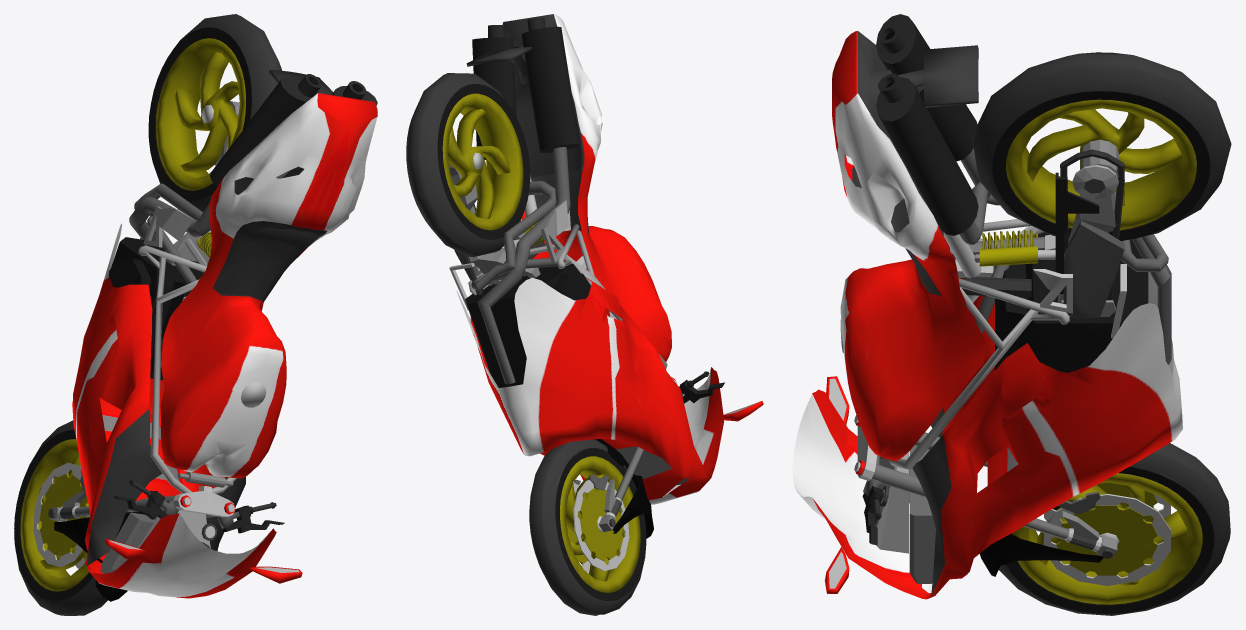
Rendered from motorcycle.glb.
3 renders of one model, left to right at view 1: azimuth 30°, elevation 25°; view 2: azimuth 150°, elevation 25°; view 3: azimuth 270°, elevation 25°, orthographic. The views are drawn at different scales.
Parts seen in each view (by area): view 1: Body, wheel_BL, wheel_FL; view 2: Body, wheel_BL, wheel_FL; view 3: Body, wheel_BL, wheel_FL, Auto Grid motocycle arcee.001, Wheels.
Part boxes in pixels (x1=…): Body: x1=33, y1=69, x2=377, y2=601; wheel_BL: x1=148, y1=14, x2=281, y2=212; wheel_FL: x1=14, y1=420, x2=107, y2=615; Body: x1=449, y1=14, x2=763, y2=572; wheel_BL: x1=406, y1=73, x2=530, y2=257; wheel_FL: x1=529, y1=439, x2=646, y2=615; Body: x1=792, y1=14, x2=1182, y2=599; wheel_BL: x1=972, y1=52, x2=1231, y2=240; wheel_FL: x1=998, y1=443, x2=1230, y2=615; Auto Grid motocycle arcee.001: x1=1044, y1=494, x2=1170, y2=585; Wheels: x1=982, y1=230, x2=1037, y2=249.
Size of the model in its own units: 0.5515 by 0.9924 by 0.5712.
4 materials, 2 textured.
